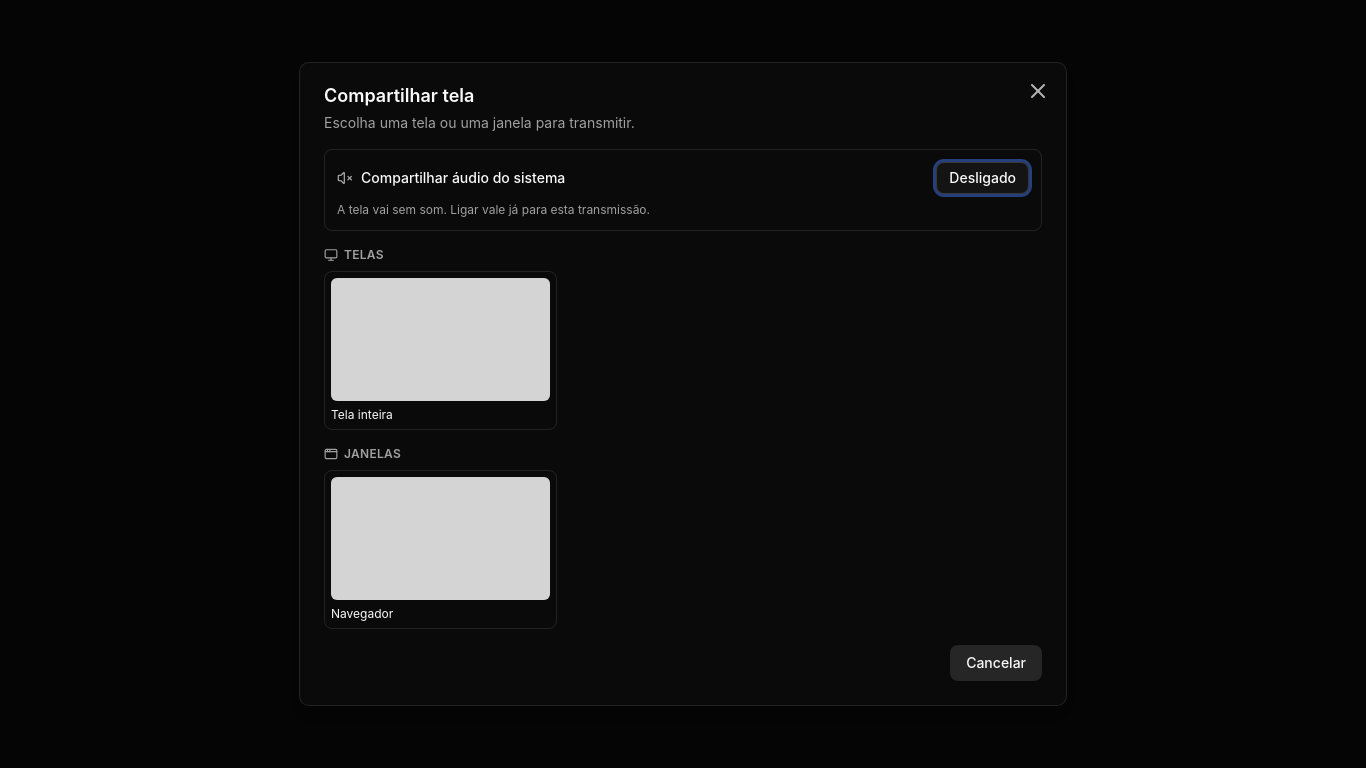
ScreenSharePicker — áudio de sistema (Pitfall 1) › numa máquina que suporta, o toggle é clicável e alterna Ligado/Desligado
Click the button "Desligado": click(983, 178) [936,162,1029,194]
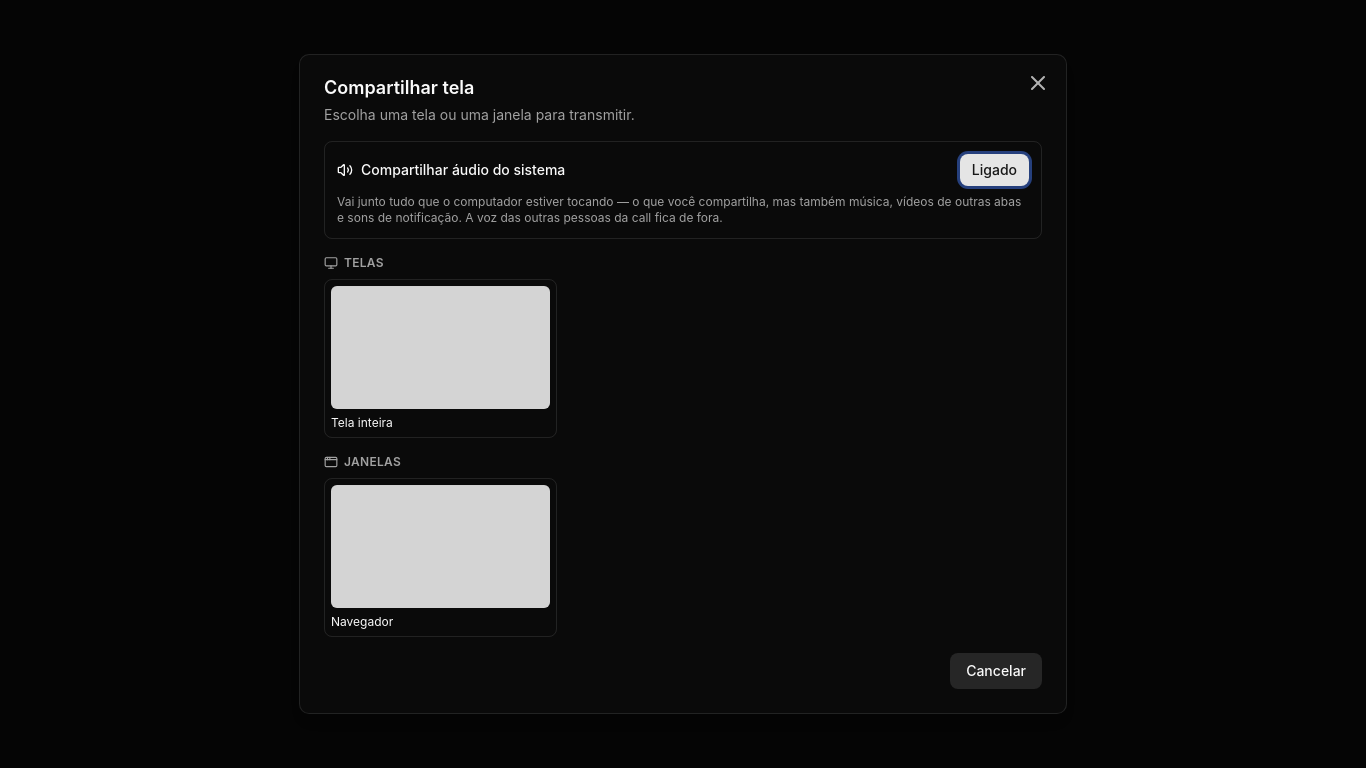
Check: the button "Ligado" is shown
Click the button "Ligado": click(994, 170) [960,154,1029,186]
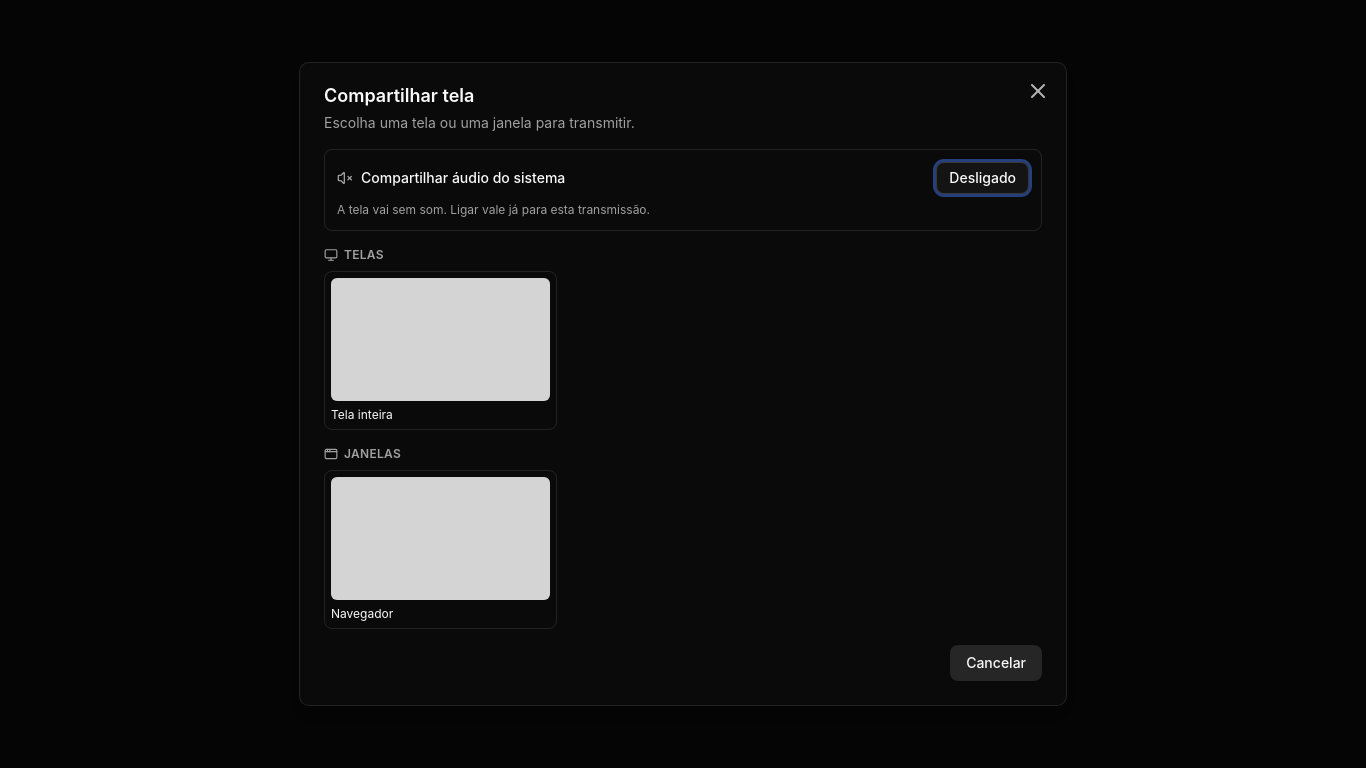
Check: the button "Desligado" is shown, box [936,162,1029,194]
